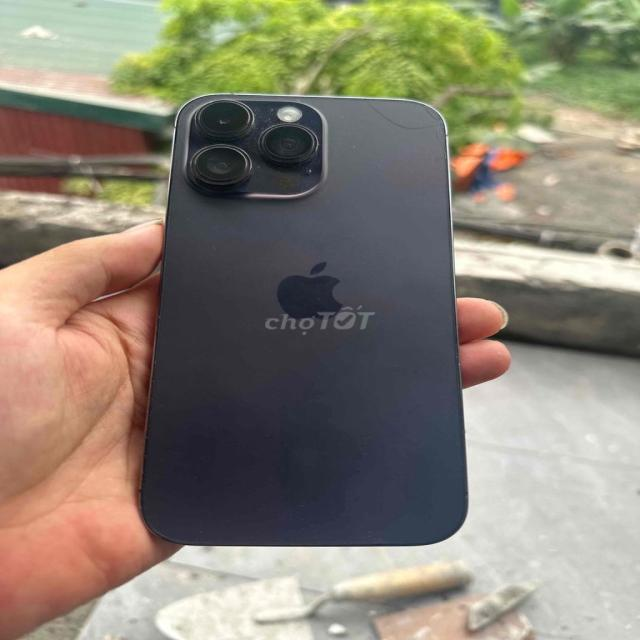gen_14: (114, 91, 472, 556)
